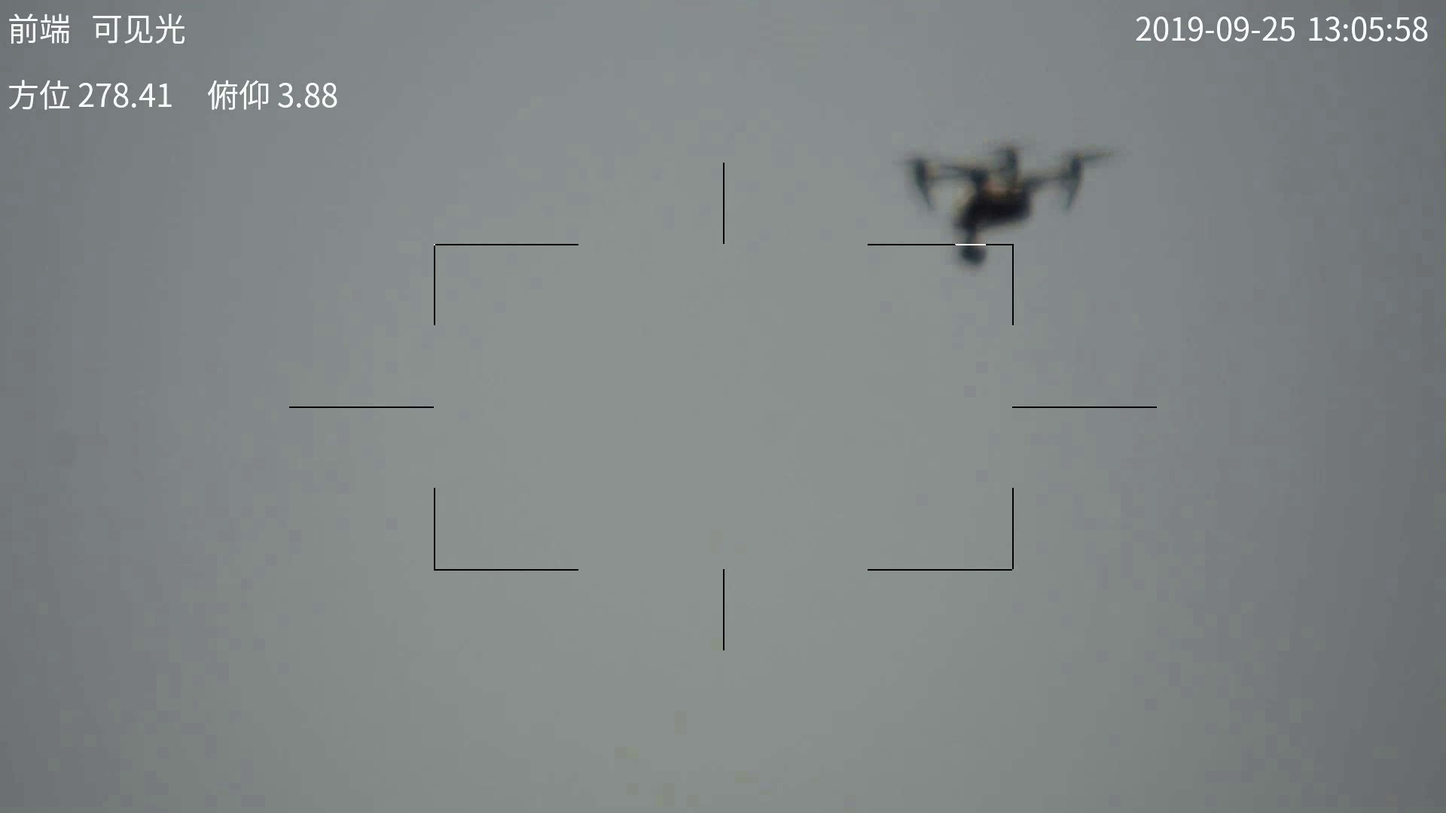drone_other: (899, 160, 1114, 282)
